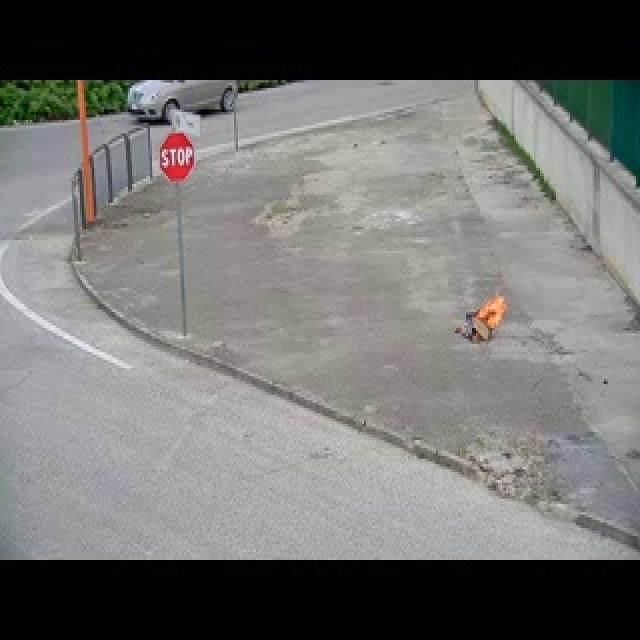fire: (468, 293, 510, 328)
